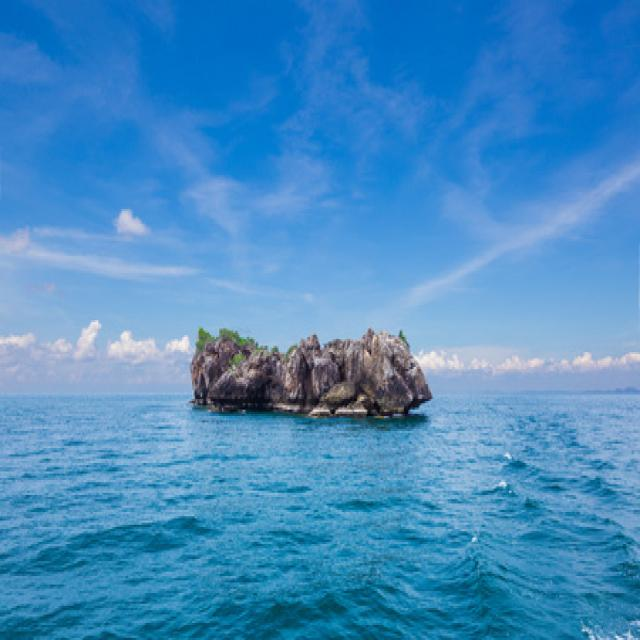island: (178, 302, 426, 420)
